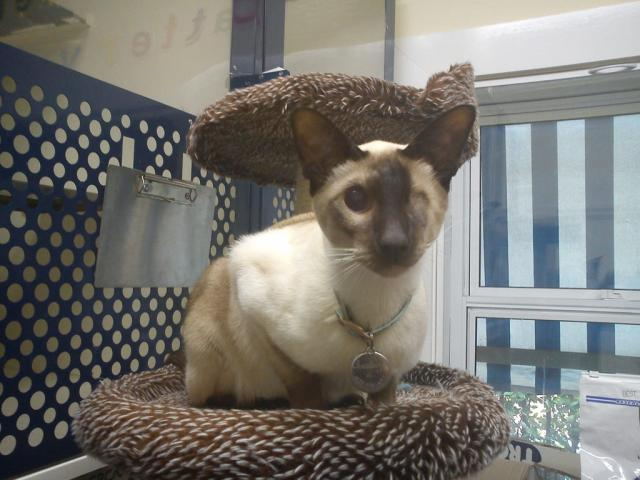Cat: (180, 104, 478, 411)
